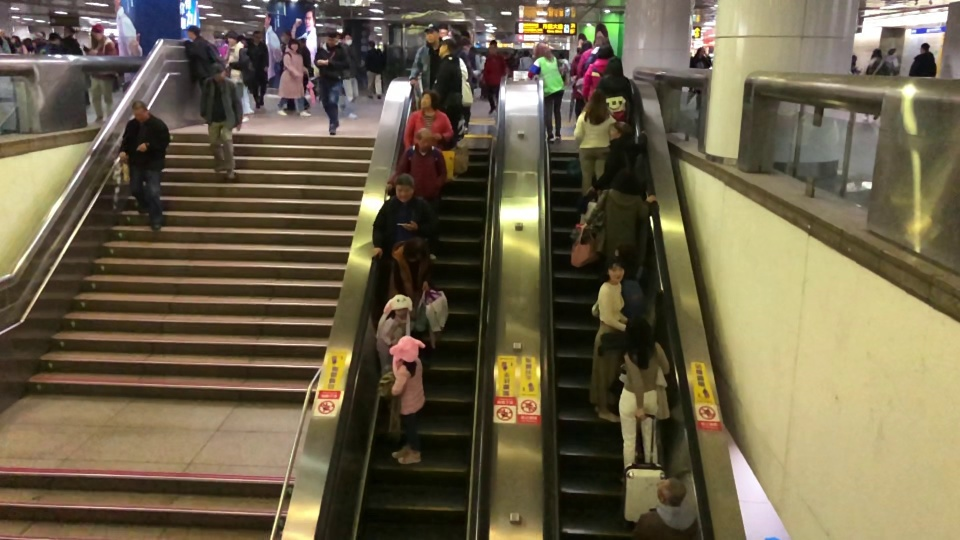person_head: (655, 476, 686, 506), (625, 315, 652, 345), (393, 172, 415, 201), (406, 238, 428, 261), (614, 167, 636, 190), (603, 259, 625, 281), (612, 242, 637, 261), (131, 99, 149, 121), (417, 89, 439, 107), (609, 121, 630, 139), (415, 127, 432, 149), (587, 88, 606, 106), (606, 57, 623, 75), (438, 39, 457, 55), (210, 63, 225, 79), (425, 26, 440, 42), (393, 303, 409, 318), (400, 345, 415, 361), (534, 42, 551, 56), (597, 45, 615, 58), (90, 24, 104, 39), (186, 25, 200, 38), (326, 31, 338, 46), (227, 32, 238, 46), (48, 32, 60, 44), (488, 39, 498, 53), (871, 47, 882, 58), (919, 42, 930, 53), (63, 27, 75, 37), (595, 36, 607, 46), (253, 30, 262, 43), (344, 31, 353, 44), (580, 41, 592, 50), (887, 46, 897, 56), (289, 41, 298, 49), (850, 54, 857, 64), (697, 47, 705, 55), (367, 40, 375, 47)
person_vbox: (385, 127, 448, 260), (616, 315, 670, 467), (118, 99, 171, 233), (586, 260, 628, 424), (584, 168, 657, 262), (371, 172, 437, 260), (199, 63, 243, 181), (375, 304, 410, 439), (572, 88, 615, 194), (630, 476, 700, 540), (389, 345, 426, 465), (181, 24, 223, 126), (312, 31, 349, 139), (591, 121, 648, 191), (528, 41, 566, 143), (377, 237, 434, 304), (82, 24, 118, 119), (611, 241, 653, 319), (403, 89, 454, 147), (275, 41, 312, 116), (226, 33, 254, 123), (596, 56, 633, 120), (407, 26, 441, 90), (863, 47, 889, 124), (581, 45, 615, 102), (481, 39, 506, 114), (432, 39, 462, 99), (64, 29, 88, 102), (342, 31, 360, 123), (686, 46, 711, 110), (251, 30, 269, 107), (365, 39, 385, 101), (907, 42, 937, 78), (585, 36, 608, 68), (38, 31, 62, 54), (886, 46, 899, 75), (850, 55, 861, 73)
